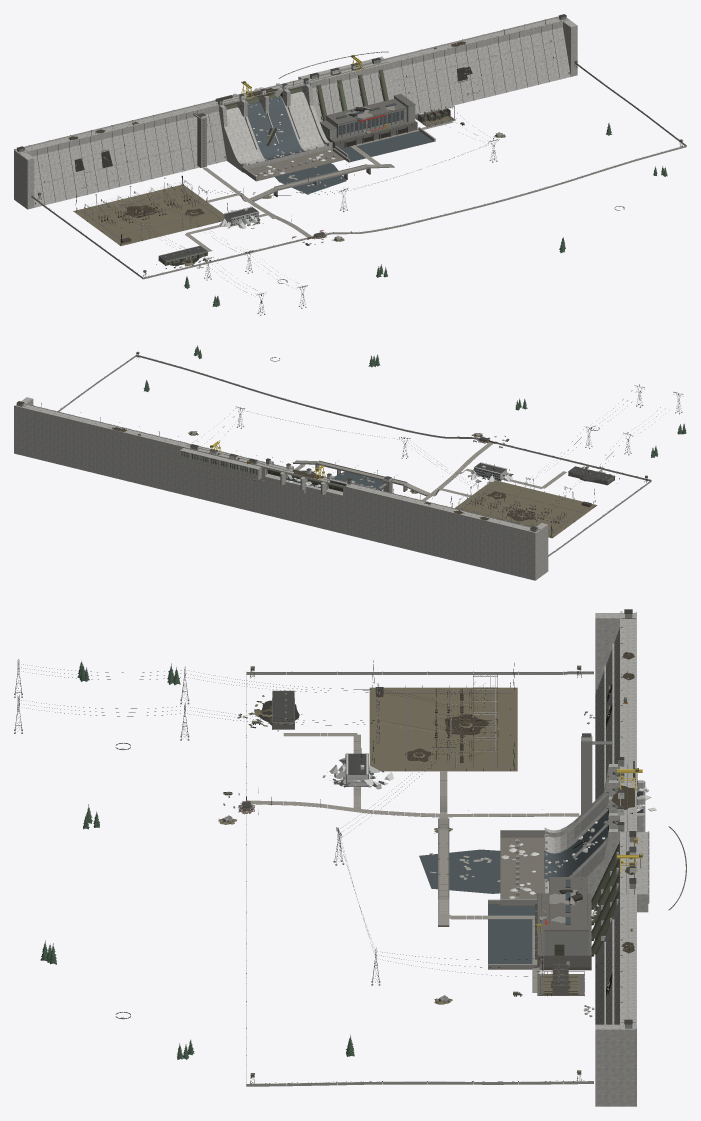
Rendered from site_dam_w.glb.
3 views of the same model, one above another, from view 1: azimuth 30°, elevation 25°; view 2: azimuth 150°, elevation 25°; view 3: azimuth 270°, elevation 25° (orthographic). The views are drawn at different scales.
Visible parts, largest first — view 1: b_dam_w|tile_dam, b_dam_e|tile_dam, b_oru|A_A, b_spill|tile_dam, deco|A_A, b_spill_ruin|A_glassF, b_intake|tile_dam, b_power|A_A, b_spill_ruin|tile_dam, deco|tile_po2, deco|tile_conc, b_intake|A_A (+9 smaller); view 2: b_dam_w|tile_dam, b_dam_e|tile_dam, b_spill|tile_dam, b_intake|tile_dam, b_oru|A_A, deco|tile_po2, deco|A_A, deco|tile_conc, b_spill_ruin|tile_dam, b_intake|A_A, b_spill|A_A, b_box|A_A (+4 smaller); view 3: b_oru|A_A, b_dam_e|tile_dam, deco|A_A, b_dam_w|tile_dam, b_spill_ruin|A_glassF, b_spill|tile_dam, b_power|A_A, deco|tile_conc, deco|tile_po2, deco|A_glassF, b_intake|A_A, b_intake|tile_dam (+8 smaller).
Part boxes in pixels (bbox=[...]): b_dam_w|tile_dam: bbox=[14, 100, 226, 209]; b_dam_e|tile_dam: bbox=[385, 16, 577, 113]; b_oru|A_A: bbox=[73, 168, 228, 245]; b_spill|tile_dam: bbox=[213, 78, 332, 172]; deco|A_A: bbox=[37, 47, 686, 315]; b_spill_ruin|A_glassF: bbox=[247, 97, 346, 194]; b_intake|tile_dam: bbox=[298, 56, 394, 121]; b_power|A_A: bbox=[319, 94, 417, 147]; b_spill_ruin|tile_dam: bbox=[215, 79, 341, 192]; deco|tile_po2: bbox=[31, 63, 686, 279]; deco|tile_conc: bbox=[185, 121, 453, 251]; b_intake|A_A: bbox=[278, 51, 388, 120]; b_dam_w|tile_dam: bbox=[346, 483, 548, 580]; b_dam_e|tile_dam: bbox=[14, 397, 188, 494]; b_spill|tile_dam: bbox=[261, 461, 355, 534]; b_intake|tile_dam: bbox=[179, 443, 265, 513]; b_oru|A_A: bbox=[450, 464, 597, 538]; deco|tile_po2: bbox=[57, 354, 651, 556]; deco|A_A: bbox=[81, 351, 683, 515]; deco|tile_conc: bbox=[295, 442, 566, 500]; b_spill_ruin|tile_dam: bbox=[264, 463, 363, 531]; b_intake|A_A: bbox=[161, 441, 264, 480]; b_spill|A_A: bbox=[265, 457, 353, 491]; b_box|A_A: bbox=[568, 466, 614, 485]; b_oru|A_A: bbox=[369, 660, 517, 771]; b_dam_e|tile_dam: bbox=[595, 893, 636, 1106]; deco|A_A: bbox=[14, 659, 642, 1085]; b_dam_w|tile_dam: bbox=[595, 611, 636, 799]; b_spill_ruin|A_glassF: bbox=[419, 791, 643, 893]; b_spill|tile_dam: bbox=[544, 763, 645, 908]; b_power|A_A: bbox=[535, 877, 591, 970]; deco|tile_conc: bbox=[246, 733, 579, 992]; deco|tile_po2: bbox=[246, 671, 593, 1086]; deco|A_glassF: bbox=[18, 667, 626, 1075]; b_intake|A_A: bbox=[591, 826, 686, 956]; b_intake|tile_dam: bbox=[595, 830, 649, 970].
Bounding box in the file's own units: 800 × 86.25 × 546.
Materials: 58 (42 with a texture image).
